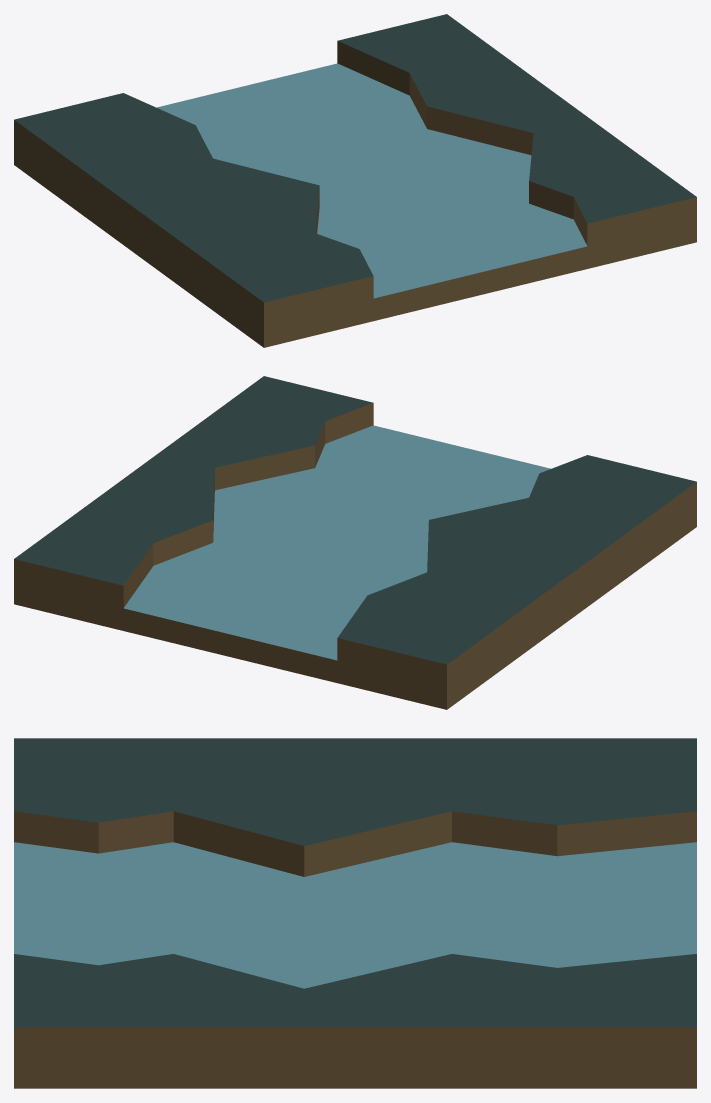
The model's file is Plate_River_Dirt_01.obj.
The picture shows the model from 3 angles, top to bottom: view 1: azimuth 30°, elevation 25°; view 2: azimuth 150°, elevation 25°; view 3: azimuth 270°, elevation 25°; orthographic projection. The views are drawn at different scales.
Visible parts, largest first — view 1: Mesh1_Plate_River_Dirt_Model; view 2: Mesh1_Plate_River_Dirt_Model; view 3: Mesh1_Plate_River_Dirt_Model.
Boxes of the visible parts, x1,y1,x2,y2 form: Mesh1_Plate_River_Dirt_Model: [14, 14, 696, 347]; Mesh1_Plate_River_Dirt_Model: [14, 376, 696, 709]; Mesh1_Plate_River_Dirt_Model: [14, 738, 696, 1088].
Bounding box in the file's own units: 3 × 0.3 × 3.
